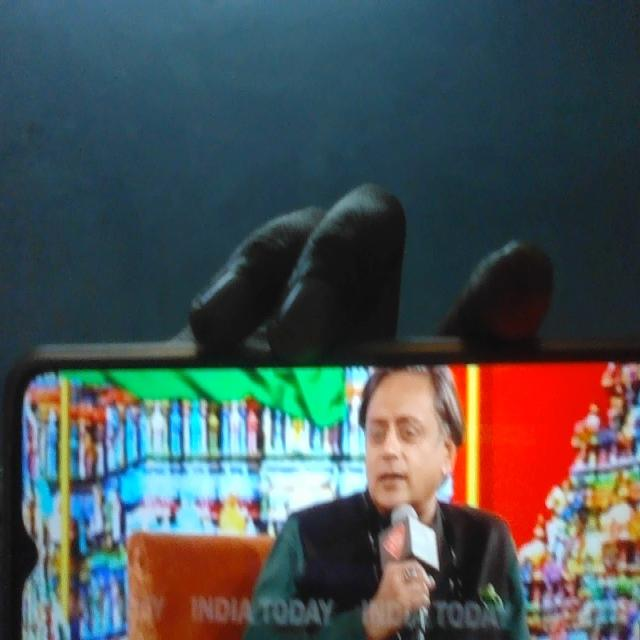fake: (341, 333, 457, 552)
